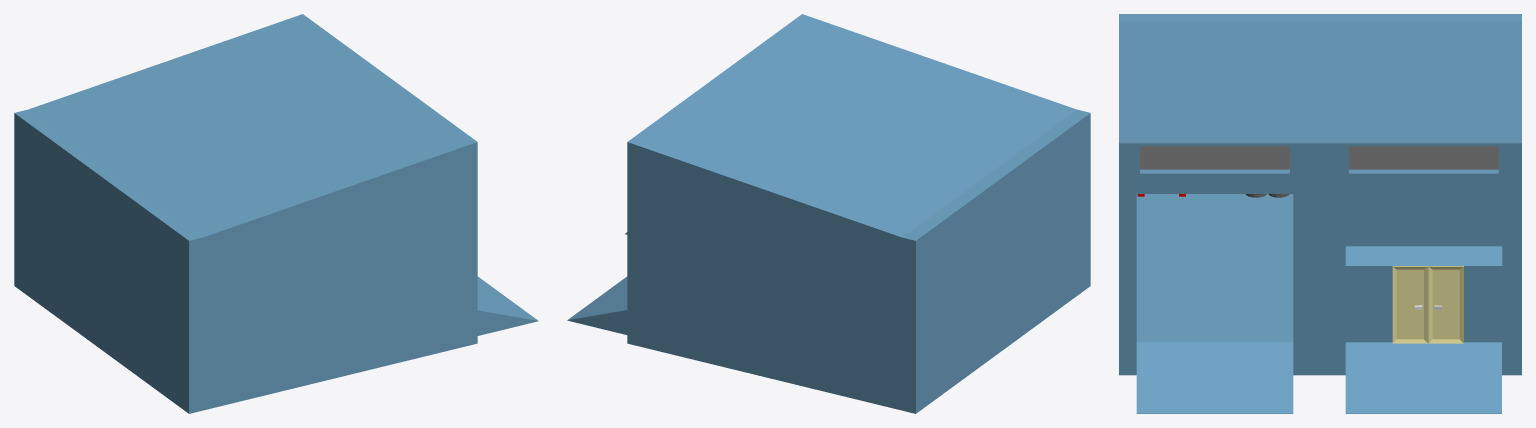
Rendered from Bengkel Mank Somad (6).fbx.
3 renders of one model, left to right at view 1: azimuth 30°, elevation 25°; view 2: azimuth 150°, elevation 25°; view 3: azimuth 270°, elevation 25°, orthographic. The views are drawn at different scales.
Visible parts, largest first — view 1: Cube.017; view 2: Cube.017; view 3: Cube.017, Cube.018, Cube.019.
Boxes of the visible parts, <box> form: Cube.017: <box>14,14,538,413</box>; Cube.017: <box>567,14,1090,413</box>; Cube.017: <box>1119,14,1521,413</box>; Cube.018: <box>1392,266,1427,343</box>; Cube.019: <box>1428,266,1463,343</box>.
Size of the model in its own units: 1298 by 700 by 1101.
